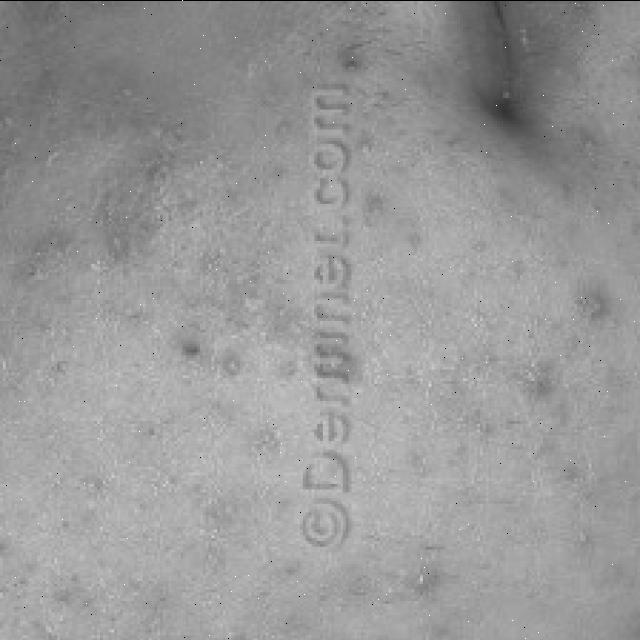Acne: (29, 76, 312, 592), (359, 93, 624, 613)
